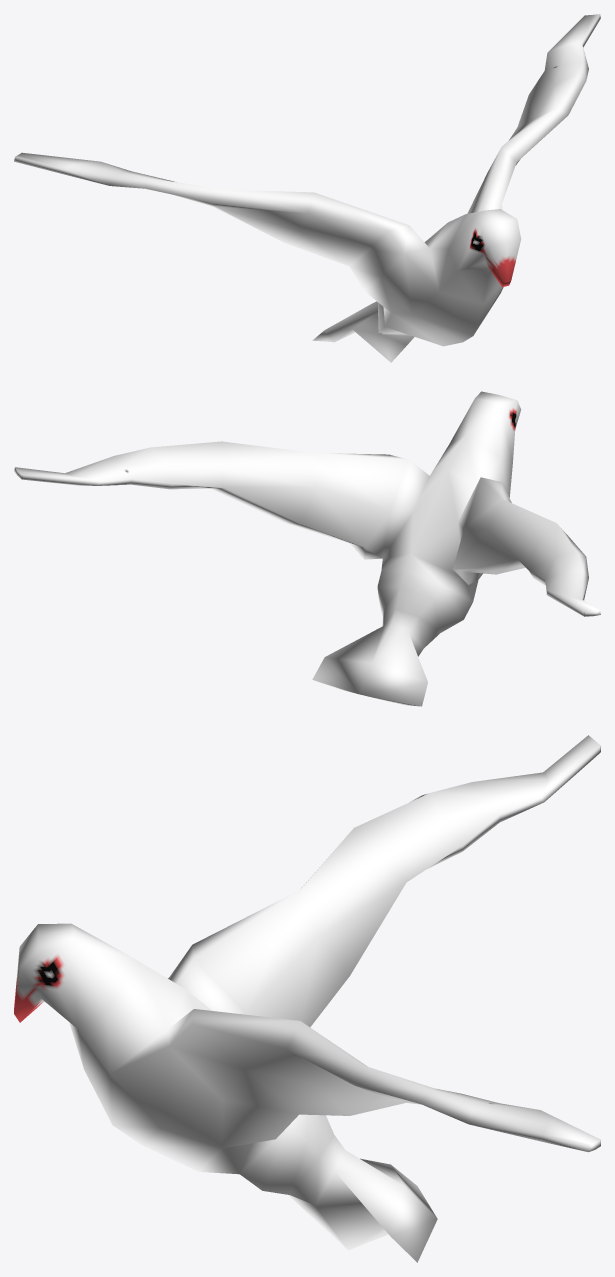
The model's file is dove.obj.
3 views of the same model, one above another, from view 1: azimuth 30°, elevation 25°; view 2: azimuth 150°, elevation 25°; view 3: azimuth 270°, elevation 25° (orthographic). The views are drawn at different scales.
Parts seen in each view (by area): view 1: Cube; view 2: Cube; view 3: Cube.
Part boxes in pixels (<box>): Cube: <box>14,14,600,362</box>; Cube: <box>14,391,600,706</box>; Cube: <box>14,735,600,1262</box>.
Size of the model in its own units: 1.94 by 0.7016 by 1.17.
1 material, 1 textured.
